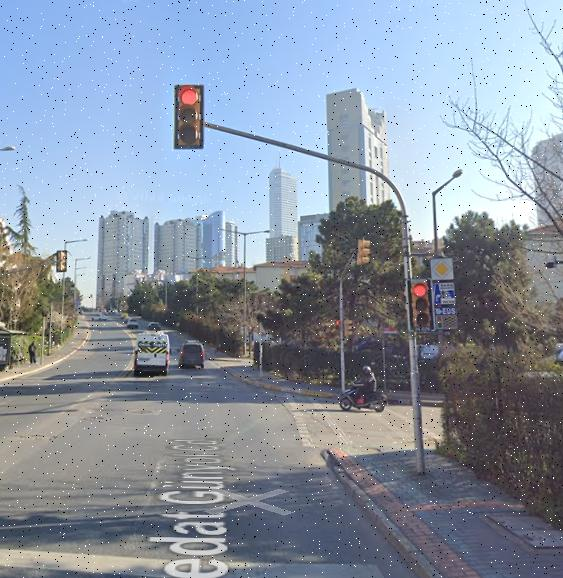redlight: (173, 85, 203, 147), (409, 278, 433, 326)
